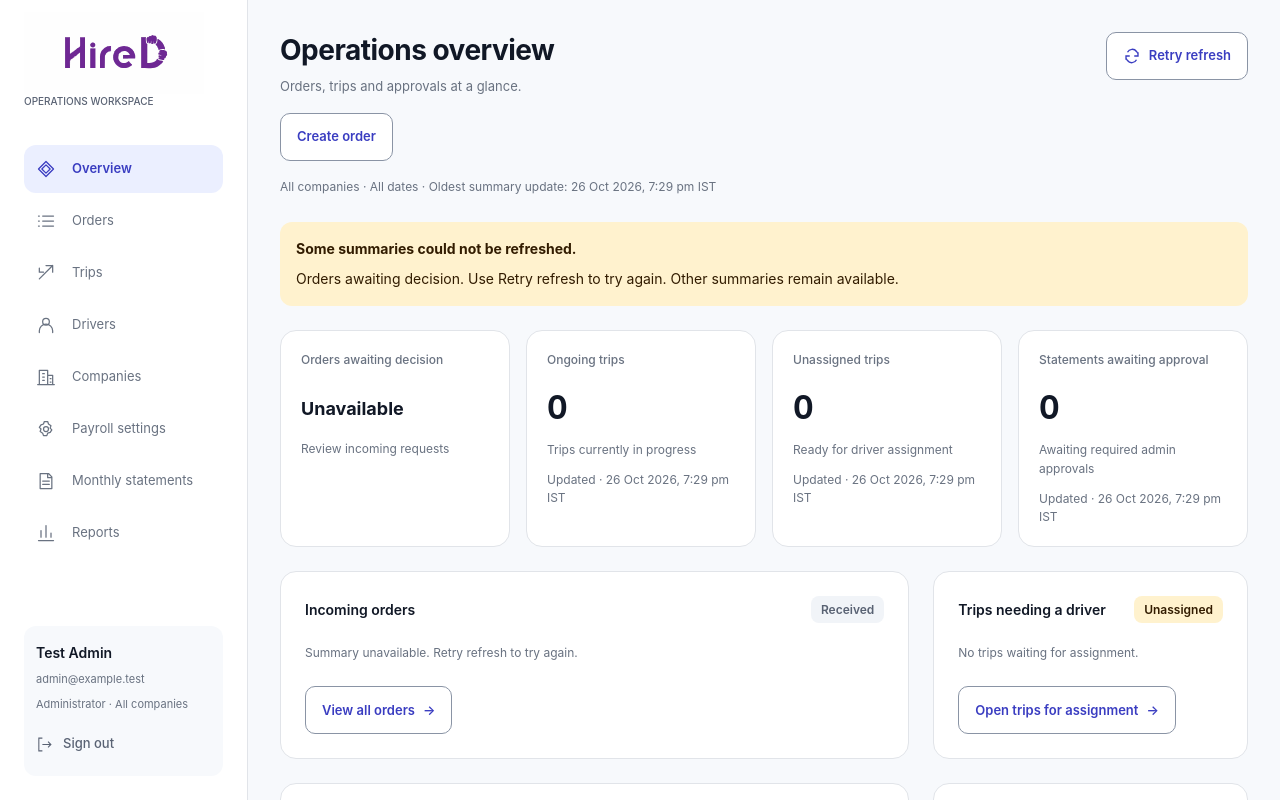
Test: operations overview › preserves the session on a summary-specific 403 and links to an existing section
(page scrolled)
Check: the message that starts with "Some summaries could not be refreshed." is shown, box [280, 222, 1248, 306]
What coordinates should you click on to do the following:
click the link "Open trips for assignment →"
I would click on:
 (1067, 710)
Its box is [958, 686, 1176, 734].
(page scrolled)
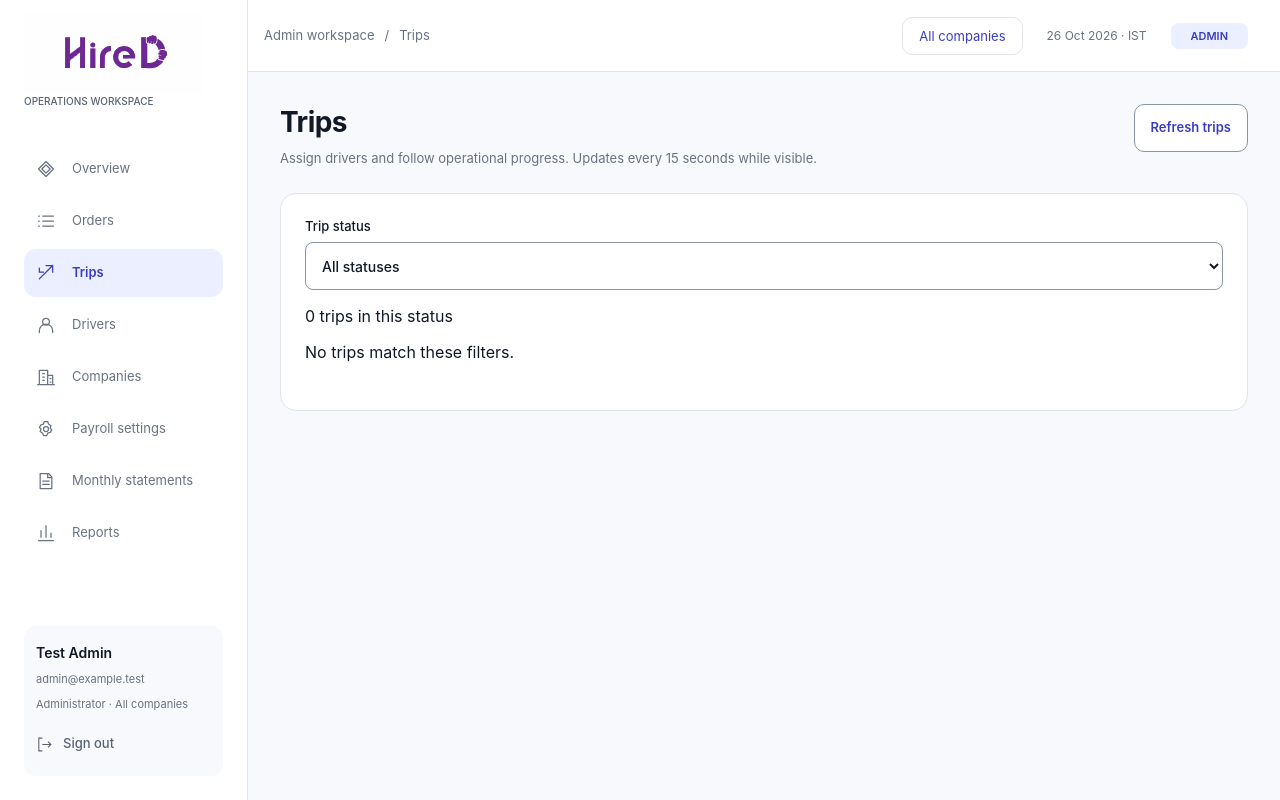
Check: the heading "Trips" is shown, box [280, 105, 347, 139]
